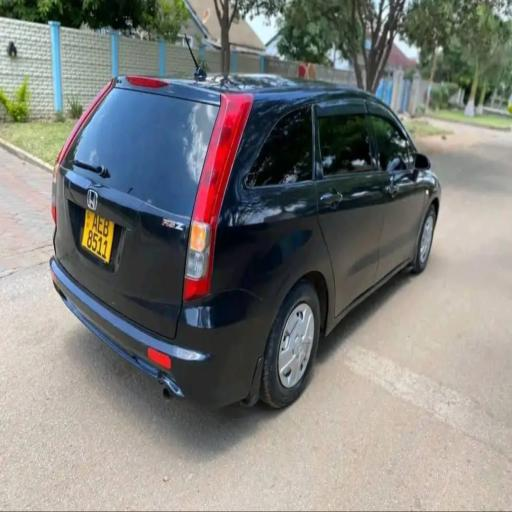number-plates: (82, 205, 116, 261)
